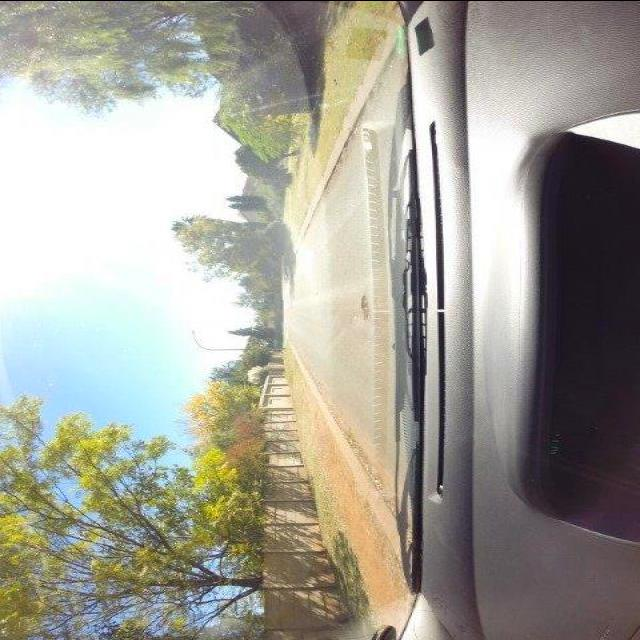lubang: (358, 289, 372, 320)
